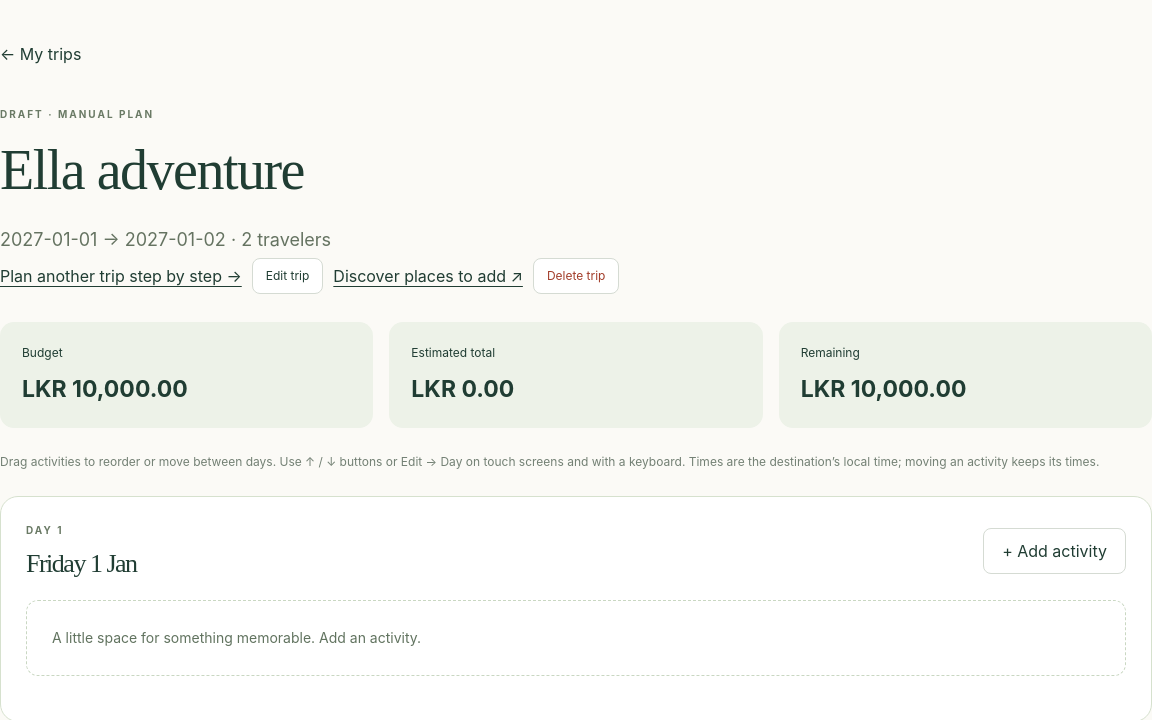
Test: manual trip scheduler › requires an explicit confirmation before deleting a whole trip
This screenshot has width=1152, height=720.
Expected: the heading "Ella adventure" is shown, [0,139,304,201]
What coordinates should you click on to do the following:
click the button "Delete trip"
I would click on:
 (576, 276)
Its box is [533,258,620,294].
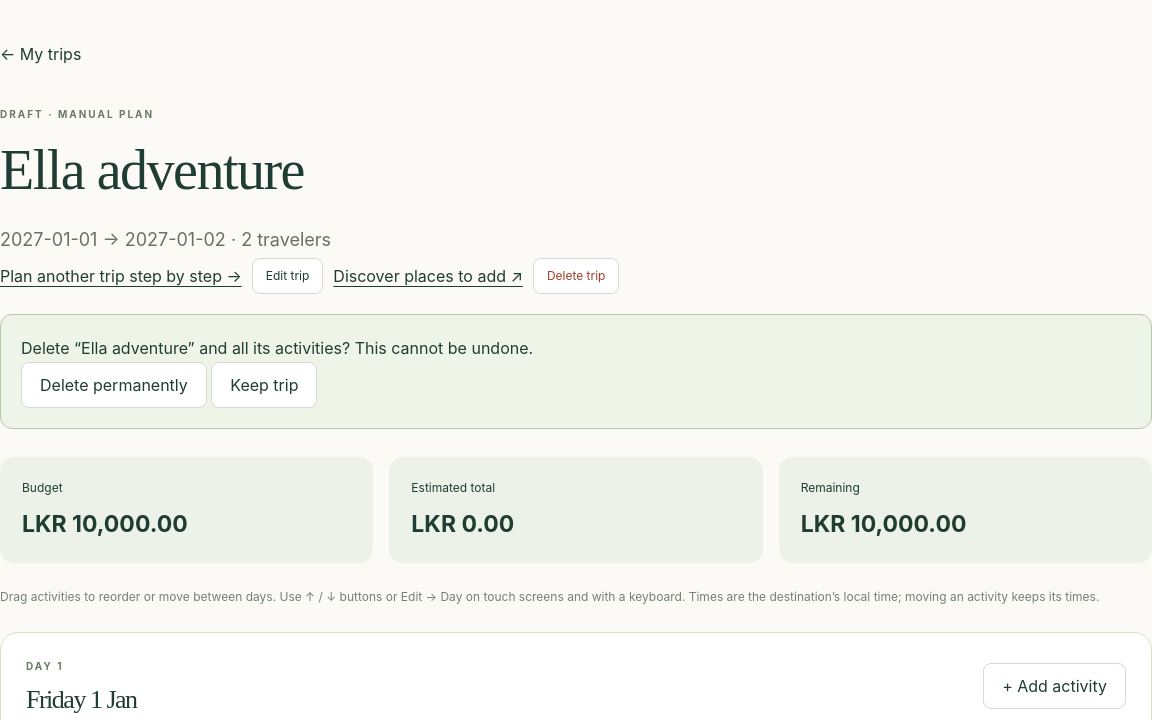
What coordinates should you click on to do the following:
click the button "Delete permanently"
I would click on:
 (114, 385)
Its box is [21,362,207,408].
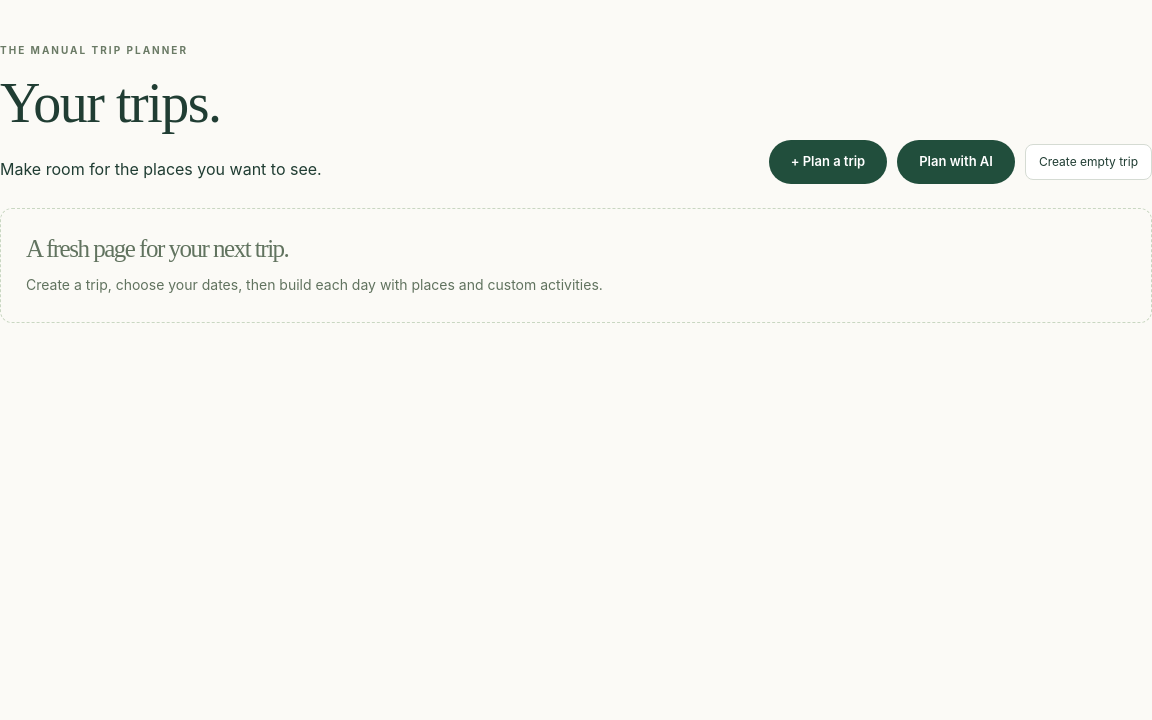
Expected: the heading "Your trips." is shown, [0,72,220,134]
